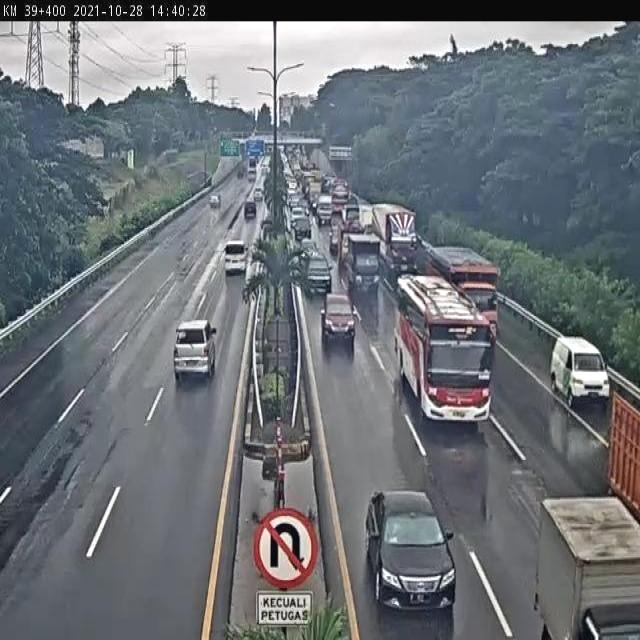Car: (350, 464, 476, 638), (174, 318, 218, 379), (291, 210, 311, 241), (244, 200, 256, 220)
Truck: (533, 495, 638, 640), (393, 273, 494, 423), (550, 335, 611, 408), (369, 205, 421, 283), (341, 233, 381, 299), (454, 282, 496, 342), (319, 292, 357, 352), (261, 308, 292, 372), (352, 284, 382, 340), (260, 420, 305, 452), (302, 251, 332, 296), (338, 230, 359, 277), (329, 211, 348, 256), (353, 203, 376, 238), (224, 240, 247, 274), (244, 249, 264, 288), (331, 182, 350, 216), (306, 178, 324, 212), (343, 195, 361, 227), (262, 450, 280, 482), (316, 194, 333, 226), (288, 250, 305, 282), (620, 149, 640, 173), (266, 192, 282, 221), (64, 138, 88, 157), (156, 149, 182, 166), (298, 238, 318, 258), (351, 140, 360, 184), (268, 151, 283, 177), (299, 172, 313, 198), (280, 99, 292, 129), (286, 145, 302, 166), (286, 187, 300, 209), (306, 169, 322, 188), (290, 203, 306, 221), (282, 204, 292, 231), (334, 178, 348, 196), (277, 130, 305, 139), (250, 139, 264, 156), (186, 170, 205, 182), (299, 158, 314, 173), (66, 102, 83, 115), (259, 155, 270, 175), (323, 176, 335, 193), (261, 216, 272, 234), (100, 202, 111, 220), (292, 163, 302, 182), (488, 290, 498, 309), (232, 137, 245, 150), (209, 193, 220, 208), (287, 180, 298, 194), (254, 187, 264, 202), (127, 149, 134, 170), (330, 239, 338, 256), (239, 140, 246, 159), (203, 175, 213, 188), (278, 144, 286, 160), (320, 121, 327, 138), (88, 153, 104, 160), (266, 143, 274, 156), (248, 156, 256, 168), (248, 169, 255, 182), (70, 272, 80, 281), (237, 166, 244, 178), (251, 128, 257, 138)
